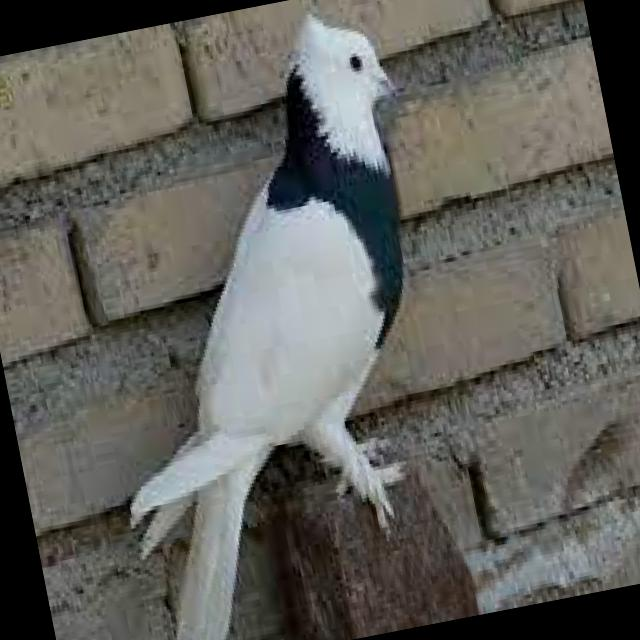bird: (37, 0, 502, 640)
